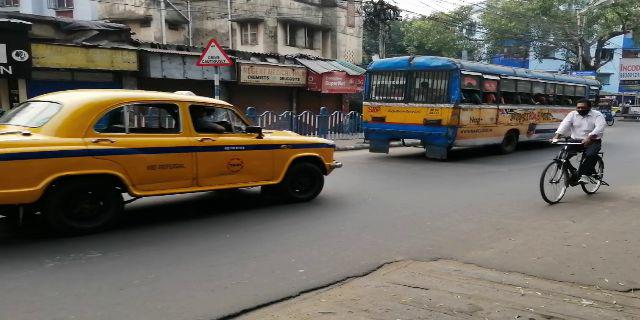Bus: (357, 55, 604, 156)
Car: (13, 88, 335, 215)
Cycle: (539, 101, 604, 202)
